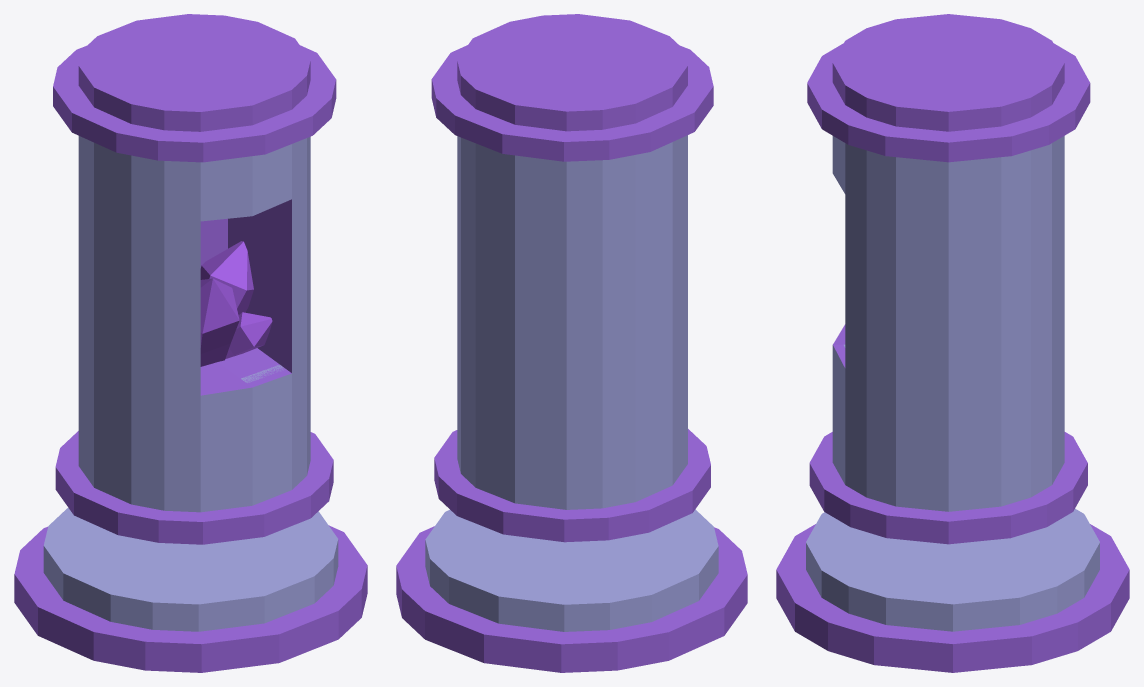
Rendered from gerador.fbx.
The picture shows the model from 3 angles, left to right: view 1: azimuth 30°, elevation 25°; view 2: azimuth 150°, elevation 25°; view 3: azimuth 270°, elevation 25°; orthographic projection.
Visible parts, largest first — view 1: Plane.001, Plane; view 2: Plane.001, Plane; view 3: Plane.001, Plane.
Boxes of the visible parts, bbox=[...] form: Plane.001: bbox=[53, 14, 336, 544]; Plane: bbox=[14, 508, 367, 672]; Plane.001: bbox=[431, 14, 713, 542]; Plane: bbox=[396, 509, 747, 672]; Plane.001: bbox=[807, 14, 1090, 544]; Plane: bbox=[776, 508, 1129, 672].
Bounding box in the file's own units: 233 × 389 × 233.
